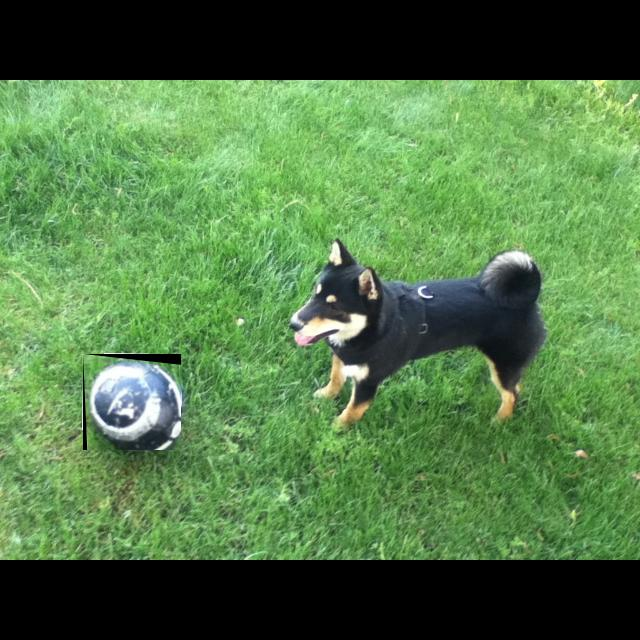Football: (83, 354, 181, 450)
